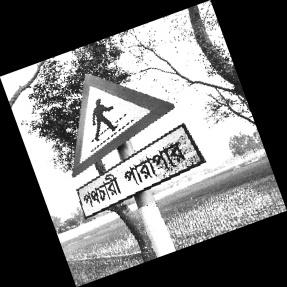Pedestrian-crossing: (74, 68, 210, 221)
